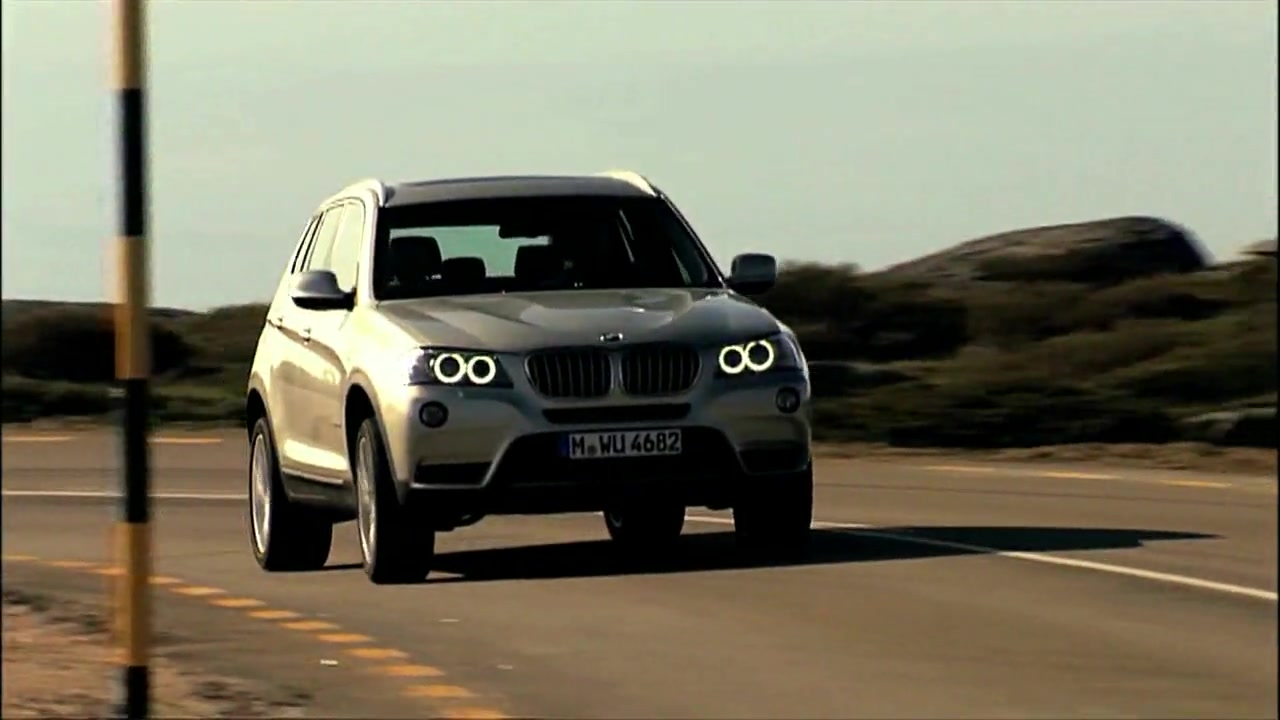car: (247, 163, 822, 581)
